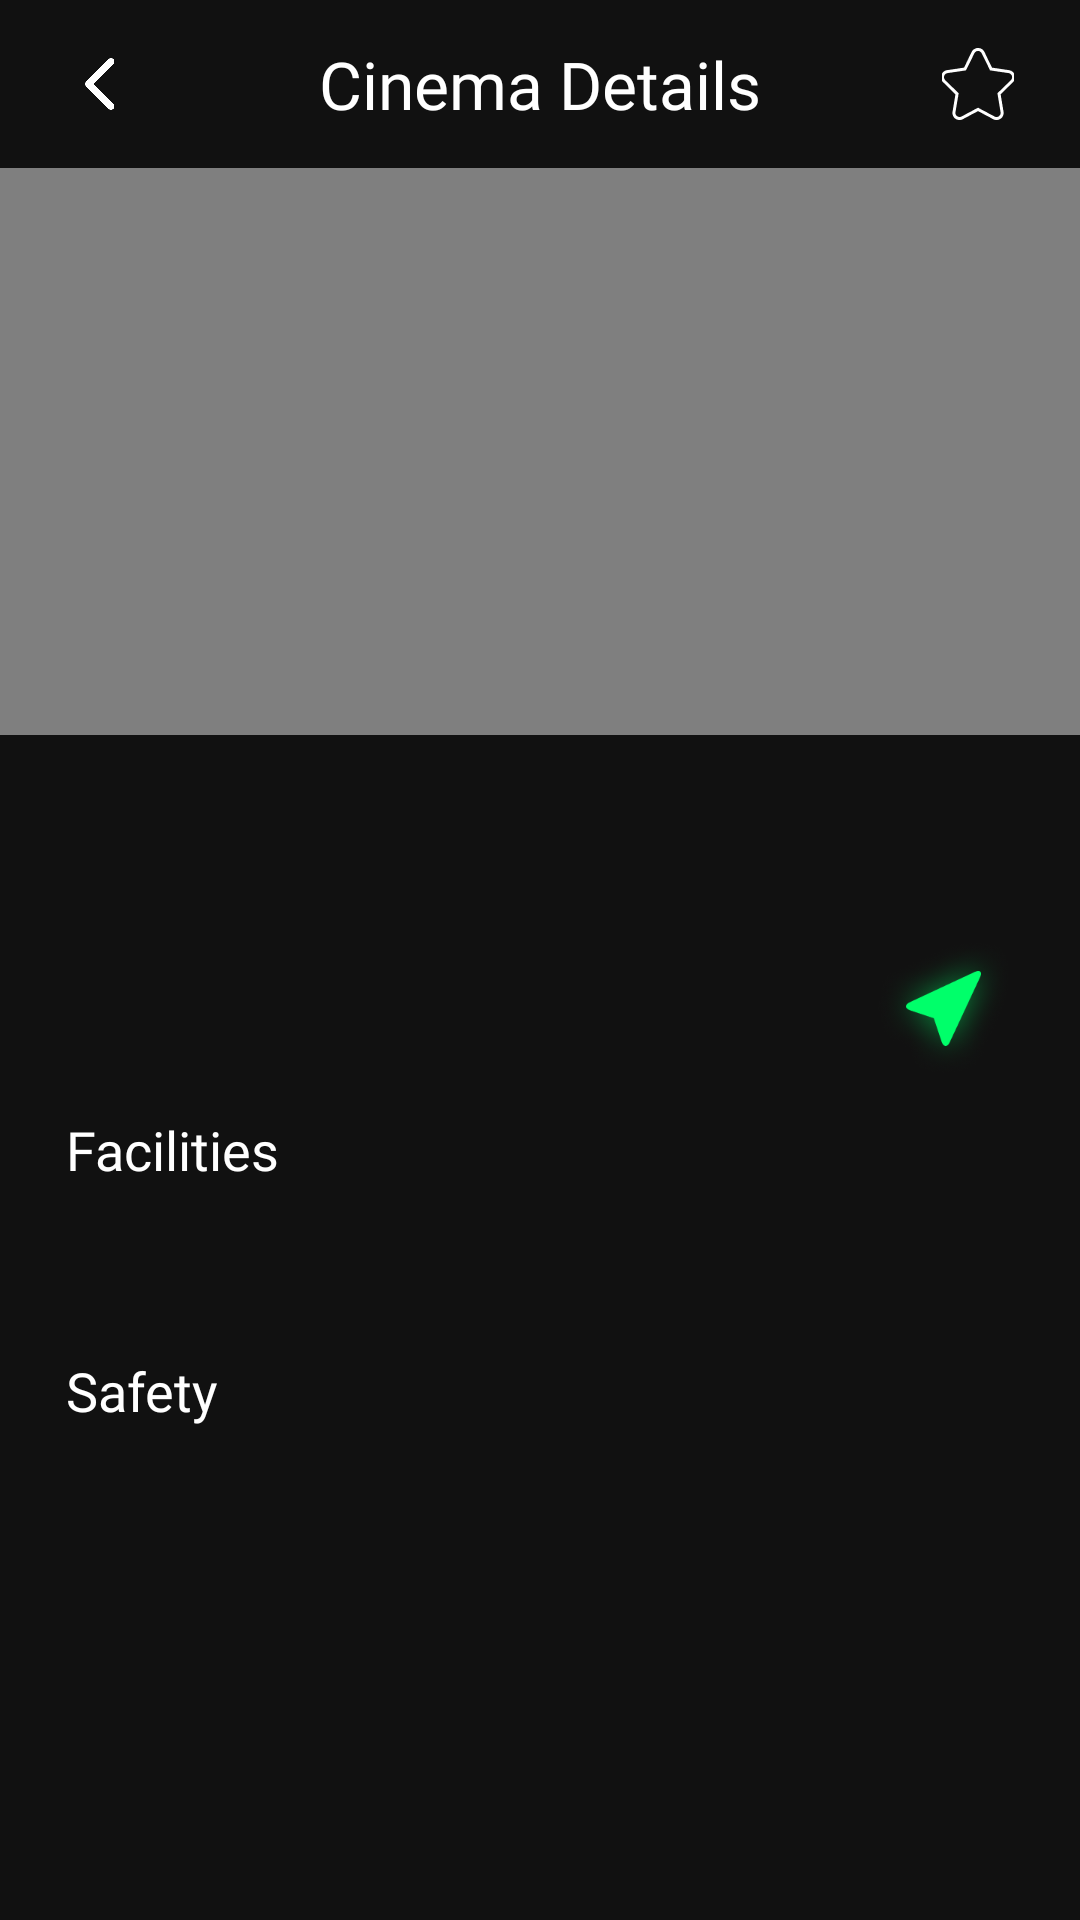

Named icons in this screenshot (1080×1920) and their centers, [x,y]:
back arrow: [99,84]
location: [944,1007]
star: [978,84]
